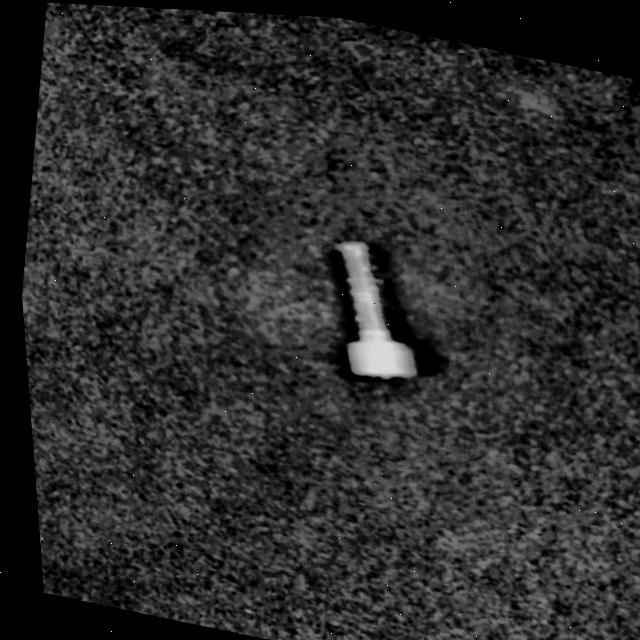Socket head cap screw: (306, 229, 438, 387)
